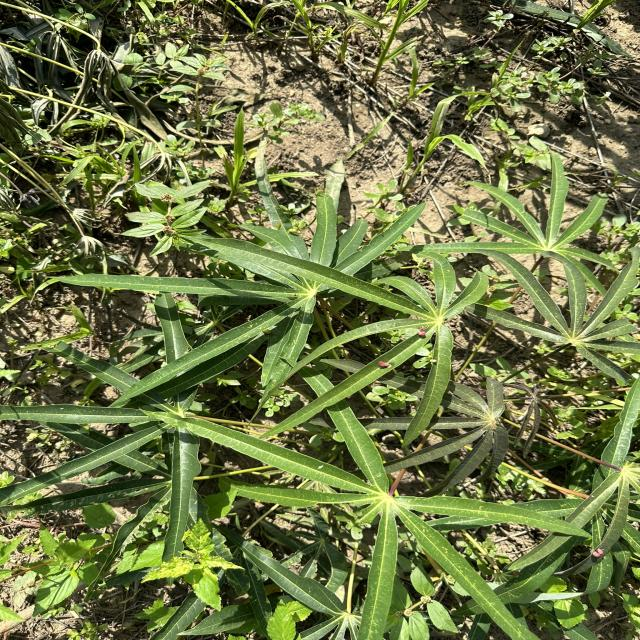Maleza: (114, 116, 202, 243), (162, 526, 244, 607)
Mosca: (413, 322, 432, 344), (373, 353, 390, 376), (588, 541, 604, 562)
